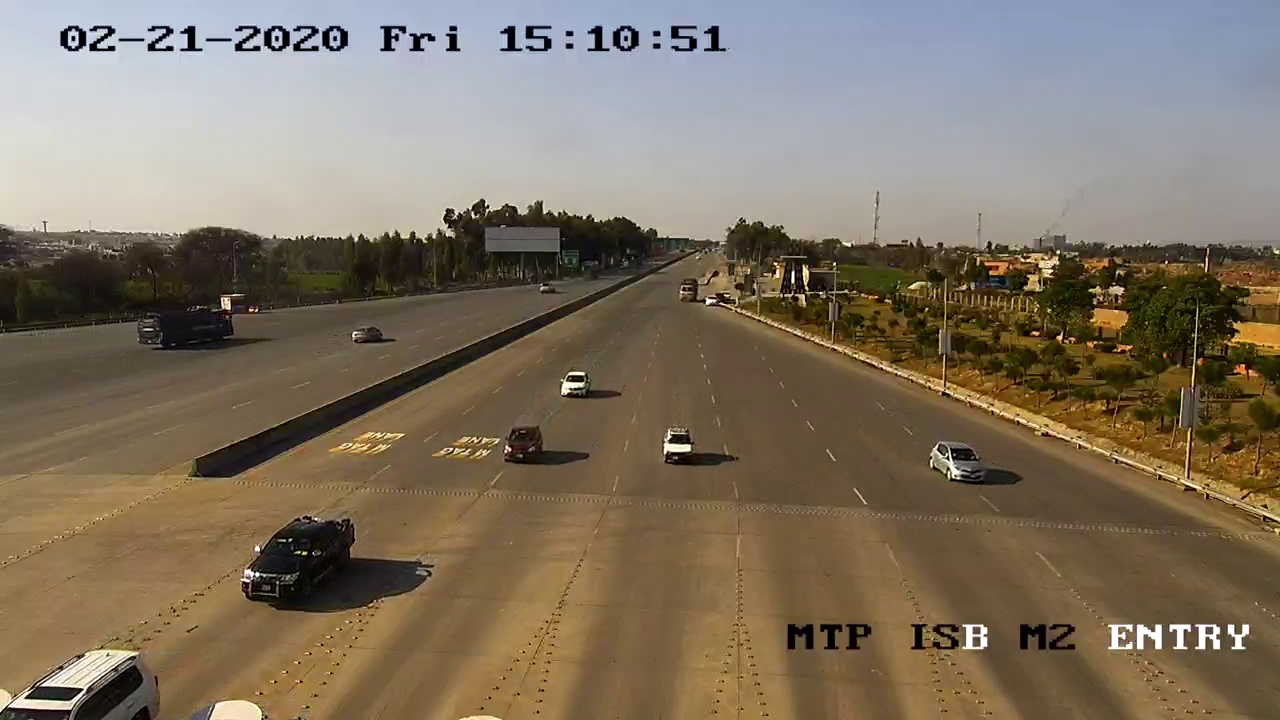f1: (236, 511, 363, 615), (925, 433, 994, 496), (497, 422, 554, 473), (648, 426, 705, 470)
